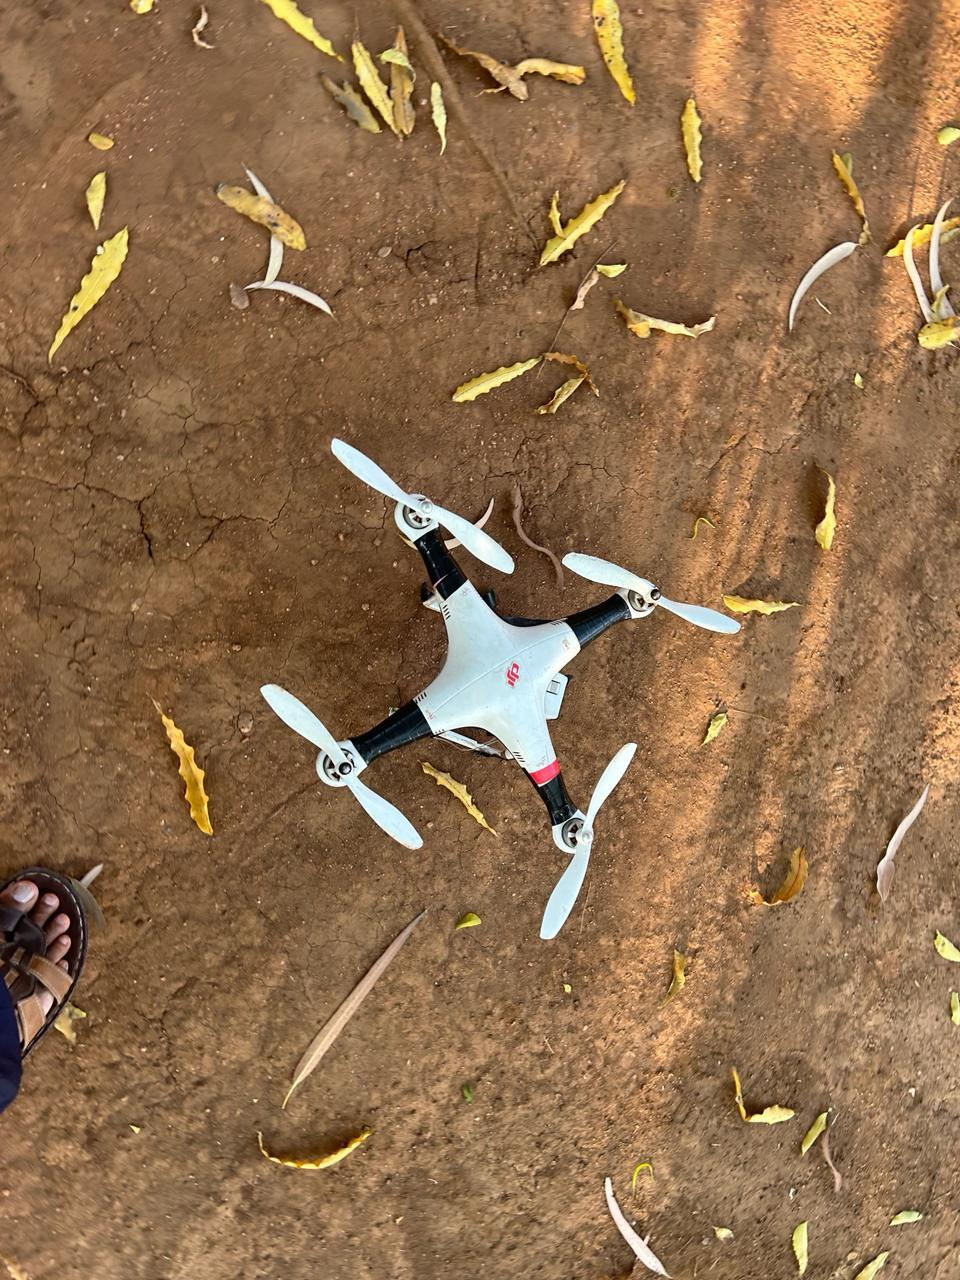drone: (208, 328, 797, 1007)
